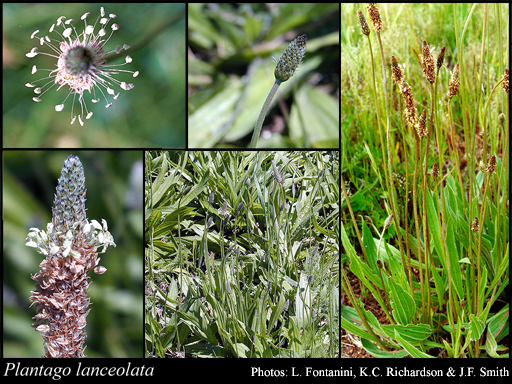buckhorn plantain: (359, 5, 512, 344), (159, 178, 336, 356), (34, 153, 124, 361), (25, 15, 131, 128)
